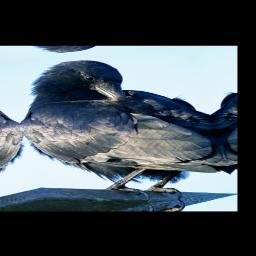Crow: (2, 50, 237, 211)
